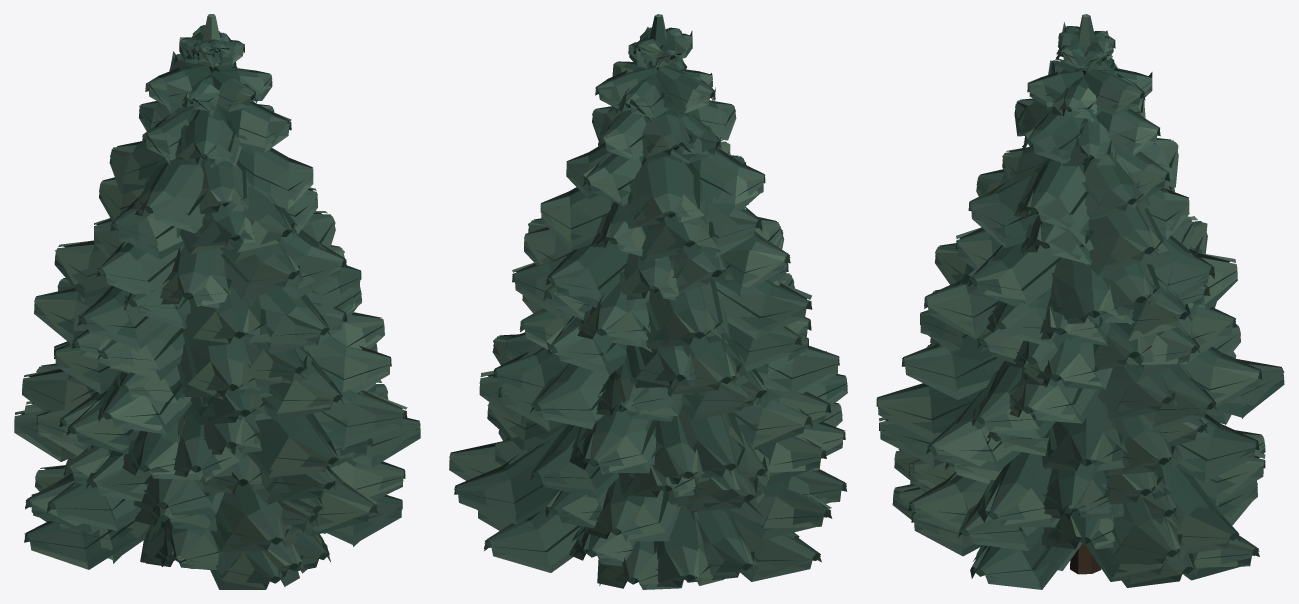
The model's file is pine-wide.glb.
The picture shows the model from 3 angles, left to right: view 1: azimuth 30°, elevation 25°; view 2: azimuth 150°, elevation 25°; view 3: azimuth 270°, elevation 25°; orthographic projection.
Parts seen in each view (by area): view 1: pine-wide-needles; view 2: pine-wide-needles; view 3: pine-wide-needles, pine-wide.
Boxes of the visible parts, x1,y1,x2,y2 form: pine-wide-needles: [14, 25, 420, 589]; pine-wide-needles: [449, 27, 847, 589]; pine-wide-needles: [876, 22, 1284, 589]; pine-wide: [1070, 14, 1101, 574].
Size of the model in its own units: 4.63 by 7 by 4.69.
